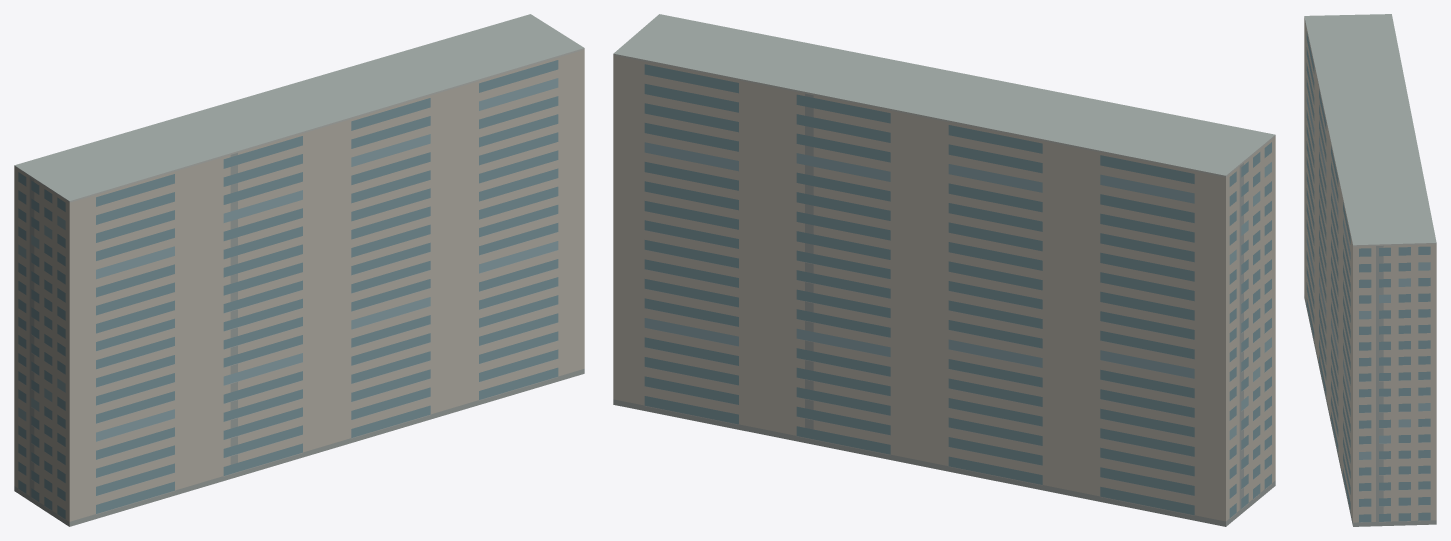
Rendered from residential-fa4d0883-fb25-4f24-9764-1f8c2772c456.glb.
3 renders of one model, left to right at view 1: azimuth 30°, elevation 25°; view 2: azimuth 150°, elevation 25°; view 3: azimuth 270°, elevation 25°, orthographic. The views are drawn at different scales.
Parts seen in each view (by area): view 1: residential-fa4d0883-fb25-4f24-9764-1f8c2772c456.tmp; view 2: residential-fa4d0883-fb25-4f24-9764-1f8c2772c456.tmp; view 3: residential-fa4d0883-fb25-4f24-9764-1f8c2772c456.tmp.
Boxes of the visible parts, x1=… form: residential-fa4d0883-fb25-4f24-9764-1f8c2772c456.tmp: x1=14, y1=14, x2=584, y2=526; residential-fa4d0883-fb25-4f24-9764-1f8c2772c456.tmp: x1=613, y1=14, x2=1275, y2=526; residential-fa4d0883-fb25-4f24-9764-1f8c2772c456.tmp: x1=1304, y1=14, x2=1436, y2=526.
Size of the model in its own units: 84.51 by 48 by 20.45.
